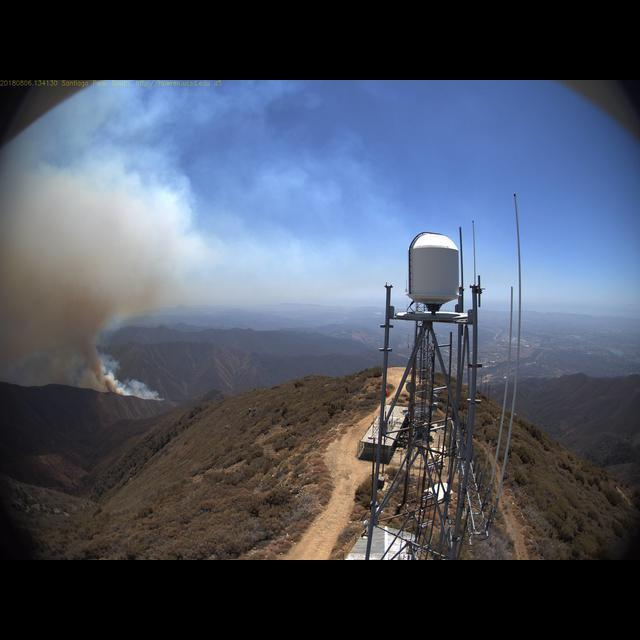Smoke: (2, 150, 168, 403)
